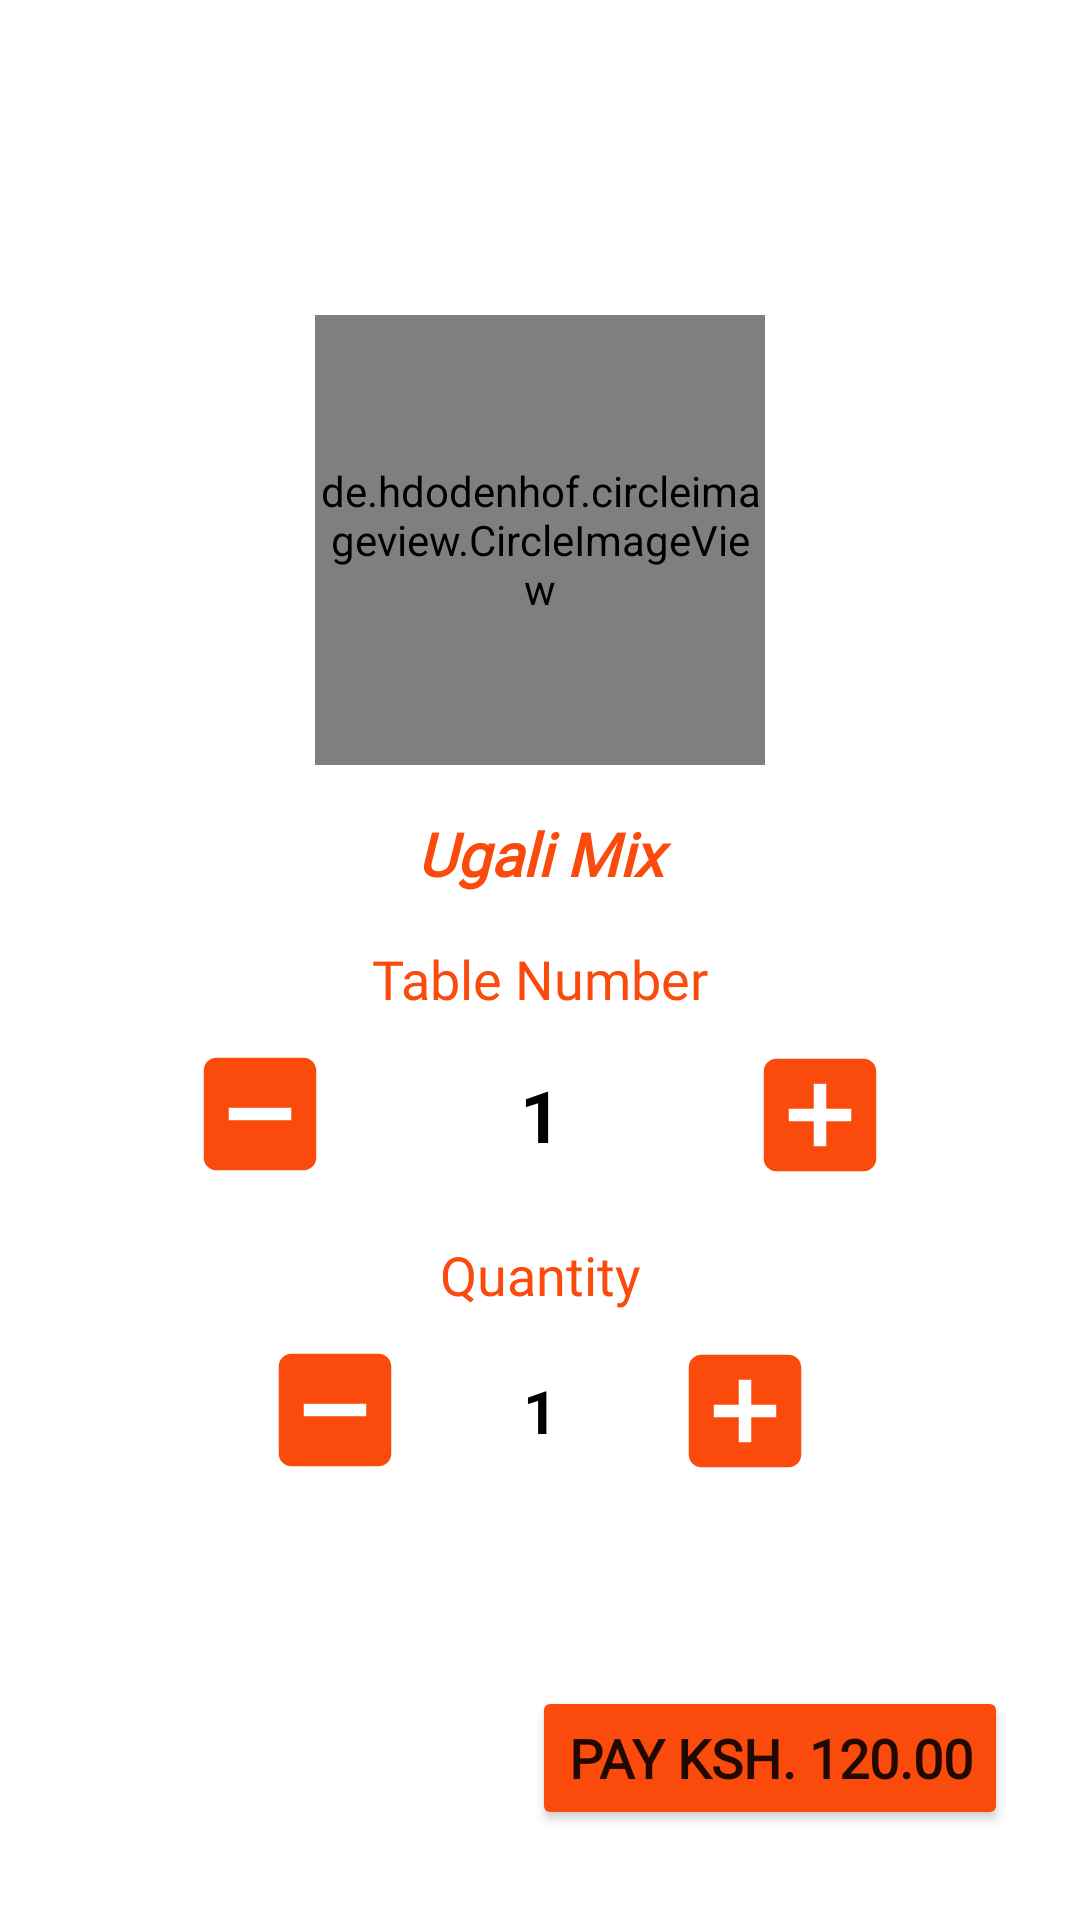

Named icons in this screenshot (1080x1920) and their bounding boxes, {"x1": x1, "y1": y1, "x2": x2, "y2": y2}:
add: {"x1": 763, "y1": 1058, "x2": 877, "y2": 1172}, {"x1": 688, "y1": 1354, "x2": 802, "y2": 1468}
minus: {"x1": 203, "y1": 1057, "x2": 317, "y2": 1171}, {"x1": 278, "y1": 1353, "x2": 392, "y2": 1467}
